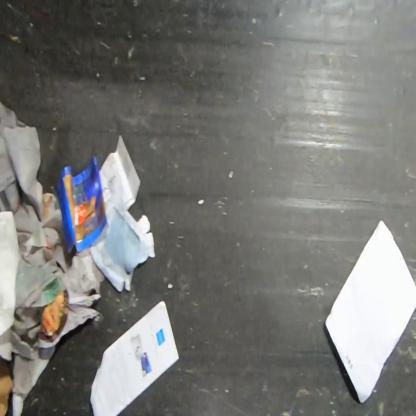cardboard: (0, 358, 15, 415)
